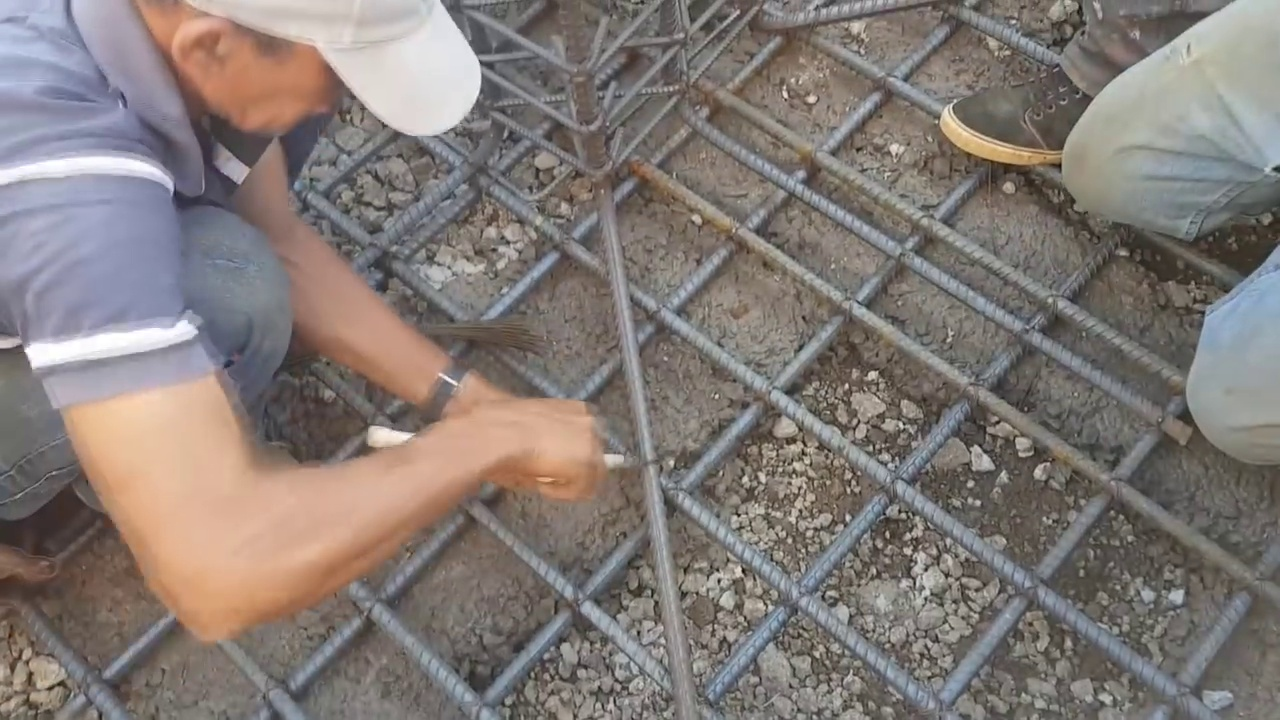helmet-off: (93, 3, 489, 160)
person: (1, 0, 609, 644), (937, 0, 1279, 472)
